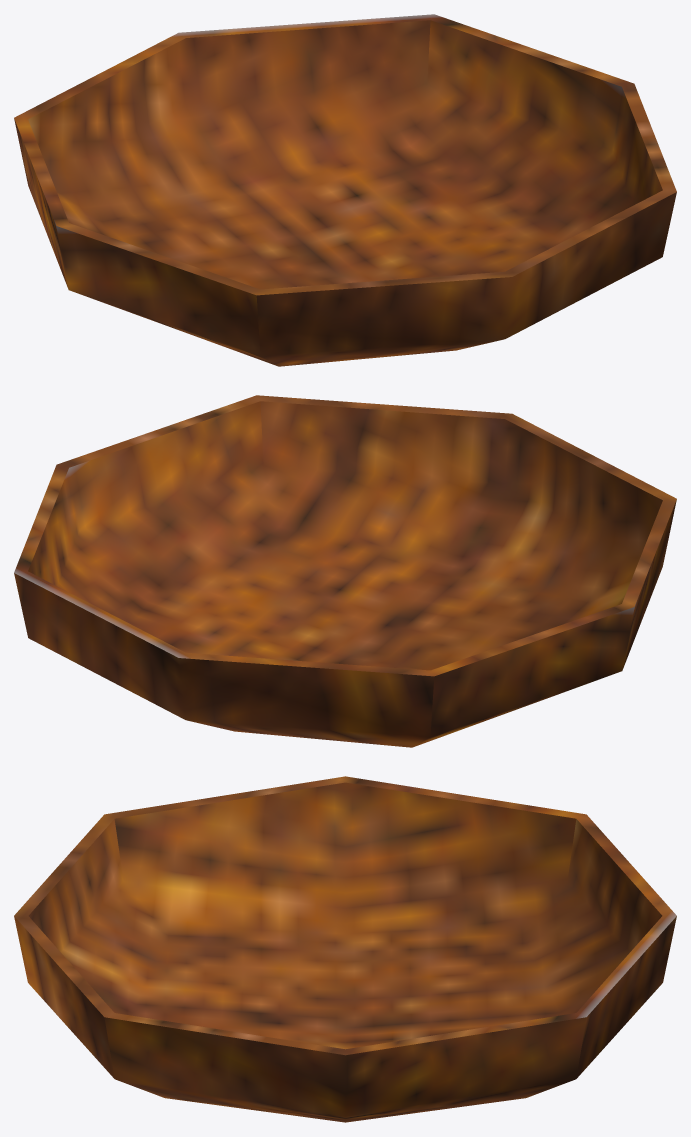
Rendered from bowl_wooden.obj.
3 views of the same model, one above another, from view 1: azimuth 30°, elevation 25°; view 2: azimuth 150°, elevation 25°; view 3: azimuth 270°, elevation 25° (orthographic).
Visible parts, largest first — view 1: bowl_wood; view 2: bowl_wood; view 3: bowl_wood.
Boxes of the visible parts, left/top/right/bottom form: bowl_wood: left=14, top=14, right=676, bottom=366; bowl_wood: left=14, top=395, right=676, bottom=747; bowl_wood: left=14, top=776, right=676, bottom=1122.
Bounding box in the file's own units: 0.55 × 0.1196 × 0.55.
